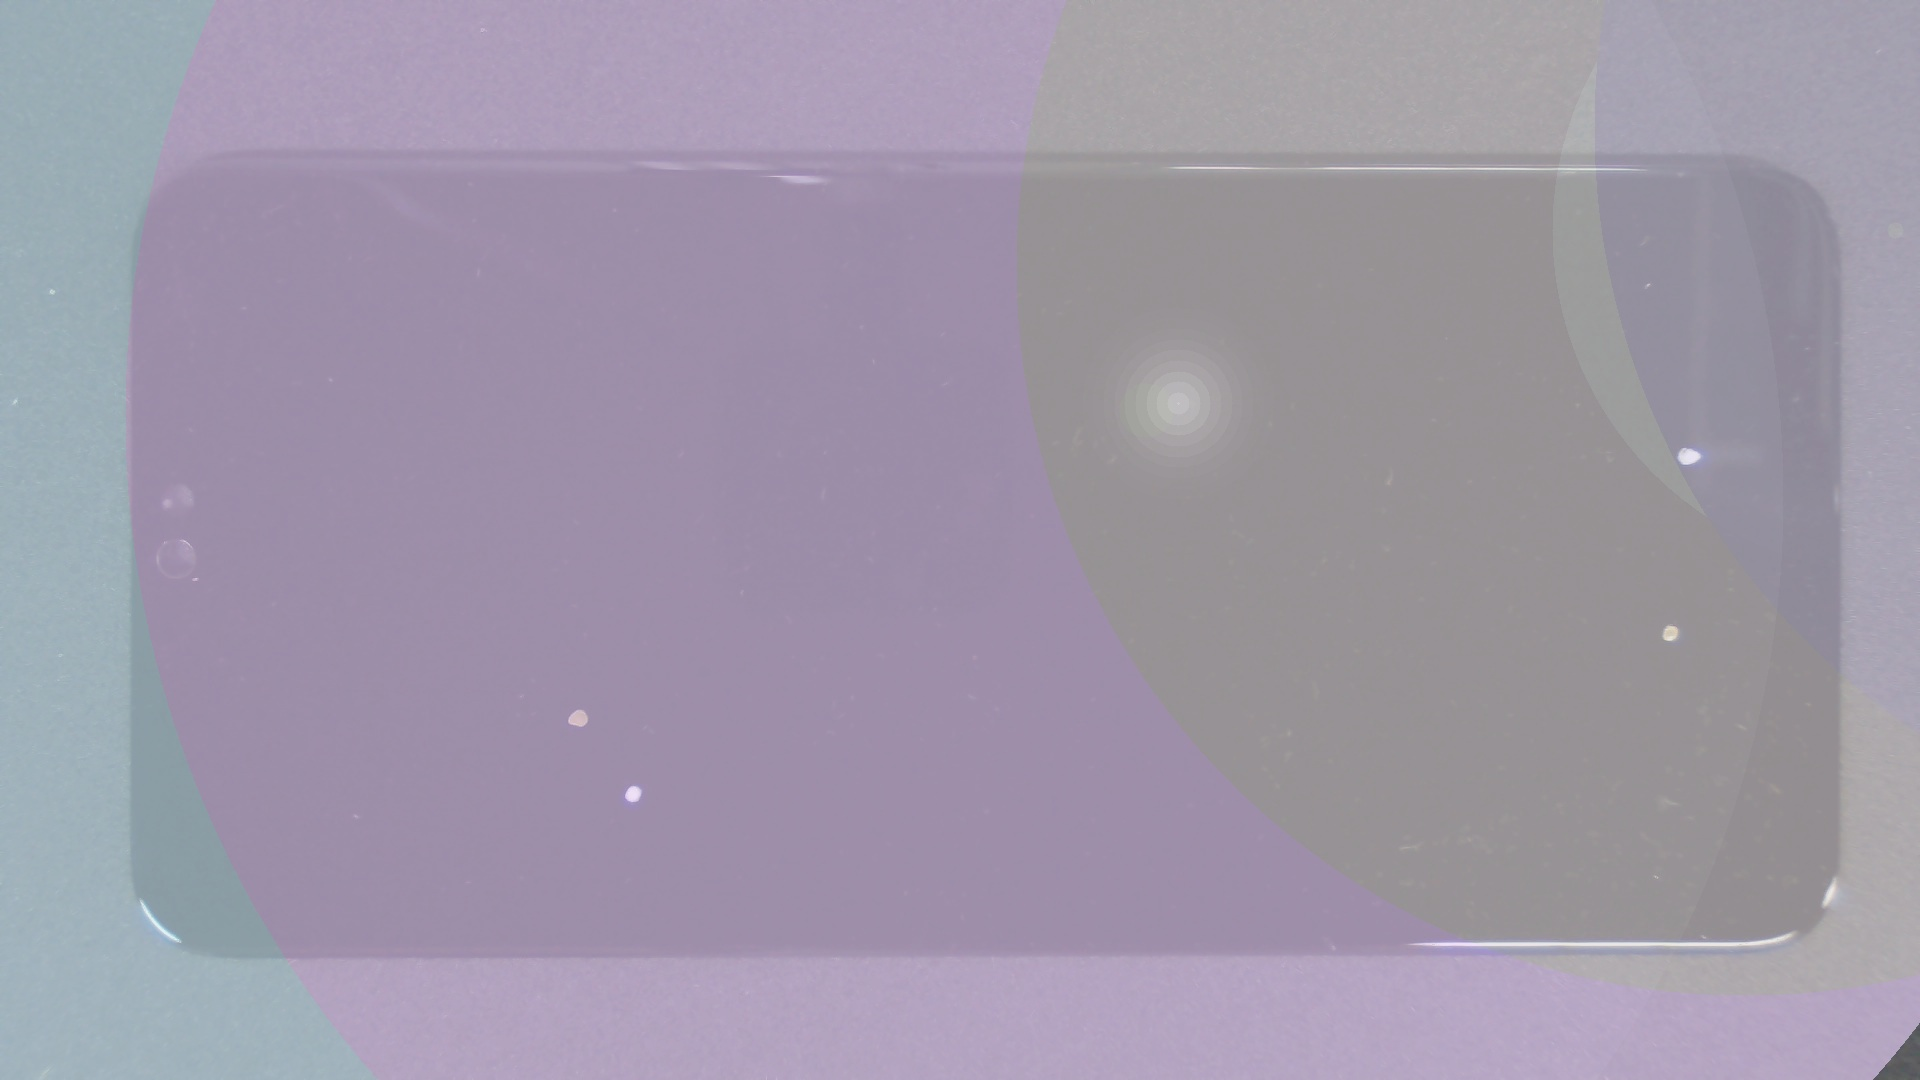oil: (835, 310, 1920, 935), (843, 223, 1920, 670), (316, 392, 948, 1080), (290, 353, 868, 1063)
